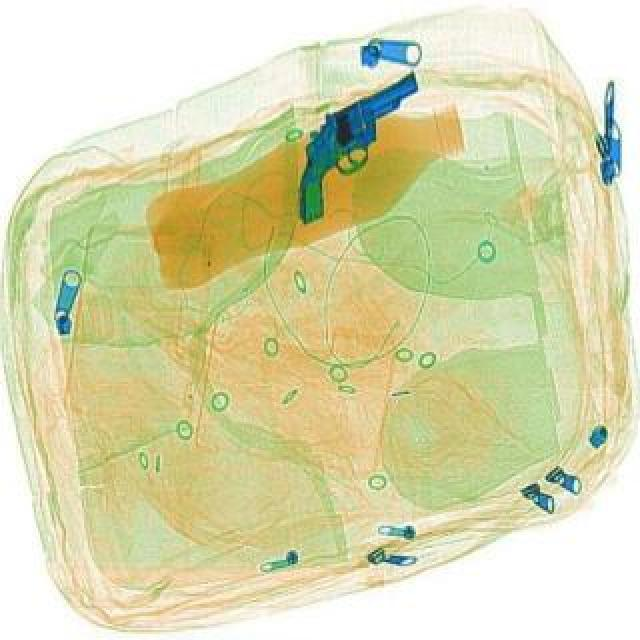gun: (258, 66, 458, 226)
